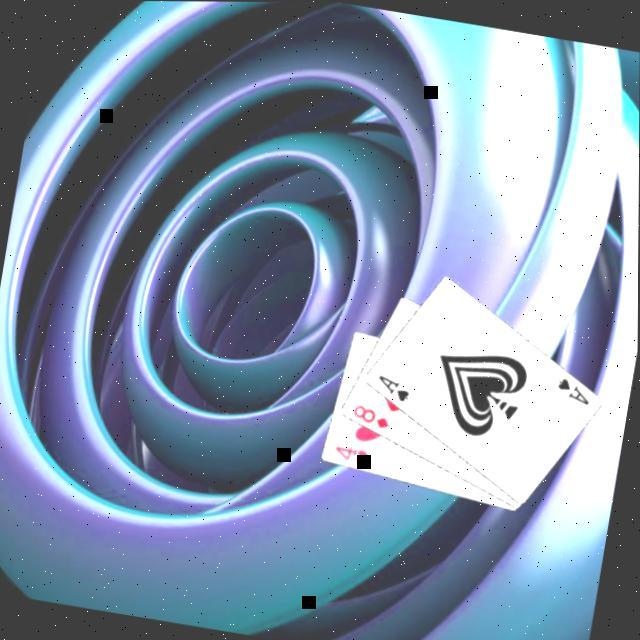4H: (328, 439, 373, 465)
8D: (347, 398, 394, 430)
AS: (550, 371, 594, 406), (371, 368, 413, 403)
